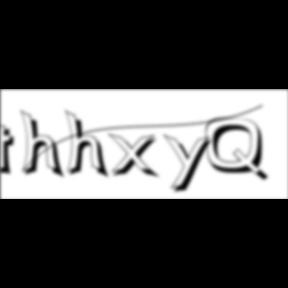Q: (206, 117, 272, 184)
h: (21, 108, 68, 182), (66, 108, 112, 182)
t: (0, 124, 22, 179)
x: (108, 132, 163, 181)
y: (164, 132, 218, 196)
